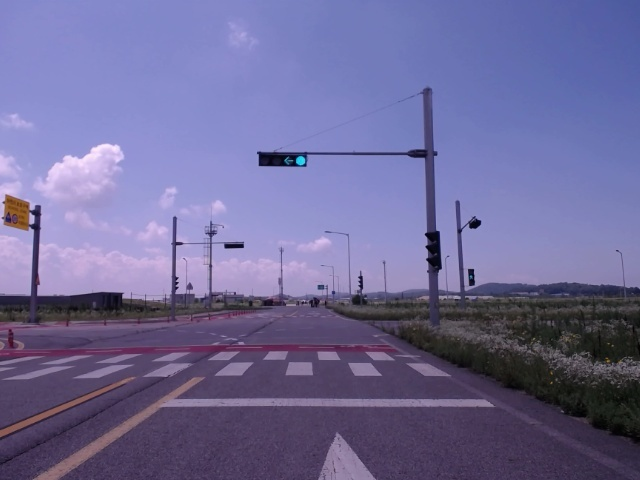all_green_4: (258, 152, 306, 167)
